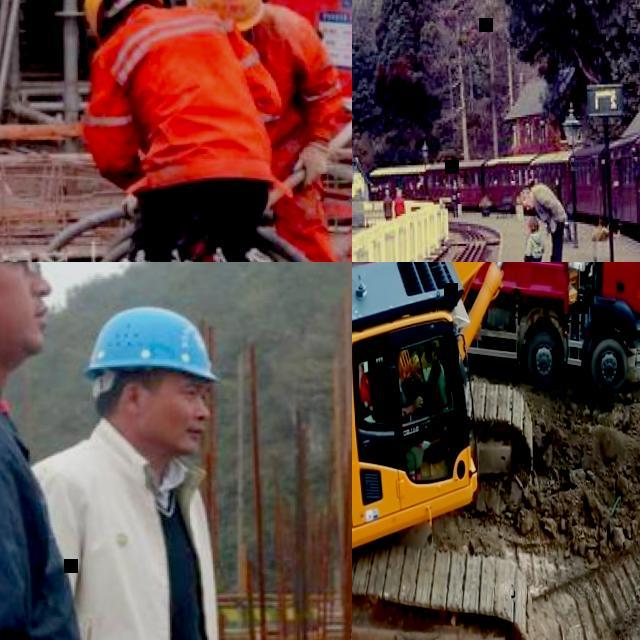helmet: (82, 306, 222, 384), (82, 0, 168, 33), (183, 0, 267, 30)
vest: (100, 6, 269, 187), (243, 9, 323, 169), (358, 372, 374, 414)
